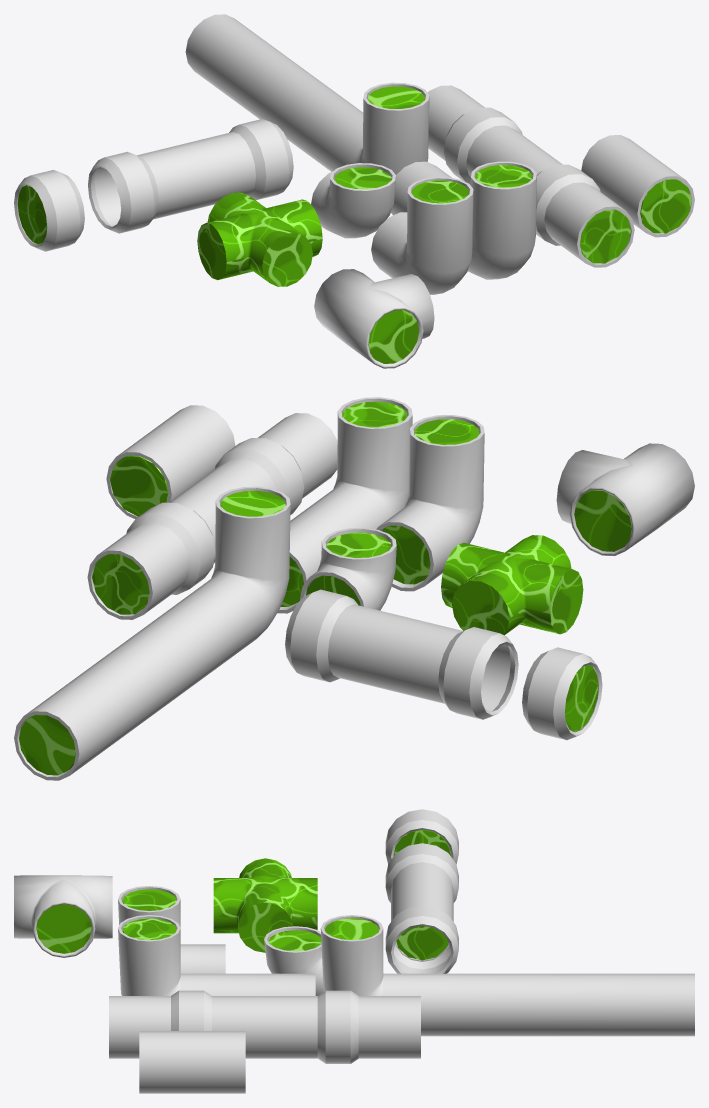
Rendered from LiquidPipeTransparent.fbx.
3 renders of one model, top to bottom at view 1: azimuth 30°, elevation 25°; view 2: azimuth 150°, elevation 25°; view 3: azimuth 270°, elevation 25°, orthographic. The views are drawn at different scales.
Parts seen in each view (by area): view 1: pipeTypeCurvedLong, InternalpipeTypeCrux, pipeTypeCurvedShort, pipeTypeCurvedMedium, pipeTypeT, pipeType3, pipeType1, Joint.002, CurvedConnection, pipeType2.003, Joint.003, Joint (+12 smaller); view 2: pipeTypeCurvedLong, InternalpipeTypeCrux, pipeTypeCurvedMedium, pipeTypeCurvedShort, pipeType3, pipeTypeT, pipeType1, Joint.002, pipeType2.004, Joint.003, InteriorCurvedLong, Joint (+12 smaller); view 3: pipeTypeCurvedLong, pipeTypeCurvedMedium, InternalpipeTypeCrux, pipeType1, pipeType2, pipeTypeT, pipeType2.004, pipeType2.003, Joint.004, Joint, pipeType3, pipeTypeCurvedShort (+11 smaller).
Boxes of the visible parts, x1=… form: pipeTypeCurvedLong: x1=185, y1=14, x2=429, y2=174; InternalpipeTypeCrux: x1=197, y1=192, x2=322, y2=286; pipeTypeCurvedShort: x1=371, y1=177, x2=473, y2=294; pipeTypeCurvedMedium: x1=391, y1=161, x2=536, y2=279; pipeTypeT: x1=314, y1=269, x2=434, y2=368; pipeType3: x1=137, y1=132, x2=255, y2=219; pipeType1: x1=581, y1=135, x2=694, y2=237; Joint.002: x1=88, y1=151, x2=158, y2=233; CurvedConnection: x1=311, y1=163, x2=395, y2=238; pipeType2.003: x1=544, y1=182, x2=634, y2=267; Joint.003: x1=14, y1=170, x2=84, y2=251; Joint: x1=229, y1=119, x2=293, y2=200; pipeTypeCurvedLong: x1=14, y1=486, x2=290, y2=780; InternalpipeTypeCrux: x1=441, y1=535, x2=583, y2=635; pipeTypeCurvedMedium: x1=277, y1=397, x2=412, y2=613; pipeTypeCurvedShort: x1=376, y1=415, x2=484, y2=591; pipeType3: x1=328, y1=604, x2=462, y2=703; pipeTypeT: x1=556, y1=443, x2=694, y2=555; pipeType1: x1=106, y1=405, x2=235, y2=519; Joint.002: x1=438, y1=627, x2=518, y2=719; pipeType2.004: x1=87, y1=523, x2=190, y2=619; Joint.003: x1=522, y1=647, x2=602, y2=740; InteriorCurvedLong: x1=19, y1=490, x2=285, y2=775; Joint: x1=285, y1=589, x2=357, y2=682; pipeTypeCurvedLong: x1=320, y1=915, x2=694, y2=1036; pipeTypeCurvedMedium: x1=118, y1=915, x2=315, y2=995; InternalpipeTypeCrux: x1=213, y1=858, x2=317, y2=952; pipeType1: x1=139, y1=1031, x2=245, y2=1093; pipeType2: x1=212, y1=996, x2=317, y2=1058; pipeTypeT: x1=14, y1=875, x2=112, y2=957; pipeType2.004: x1=358, y1=996, x2=420, y2=1058; pipeType2.003: x1=109, y1=996, x2=170, y2=1058; Joint.004: x1=317, y1=990, x2=358, y2=1063; Joint: x1=385, y1=905, x2=458, y2=973; pipeType3: x1=391, y1=862, x2=453, y2=961; pipeTypeCurvedShort: x1=118, y1=886, x2=225, y2=973.
Bounding box in the file's own units: 17.84 × 3.7 × 21.7.
